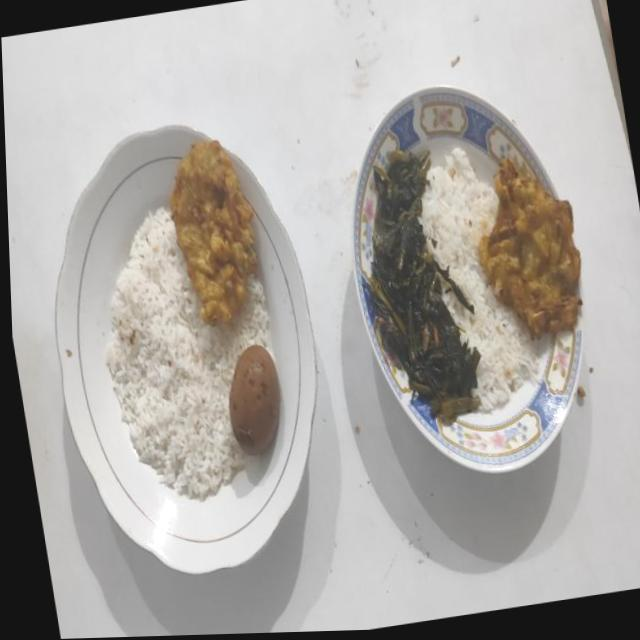nasi_putih: (106, 208, 272, 500), (419, 148, 538, 412)
tumis_kangkung: (364, 150, 480, 423)
